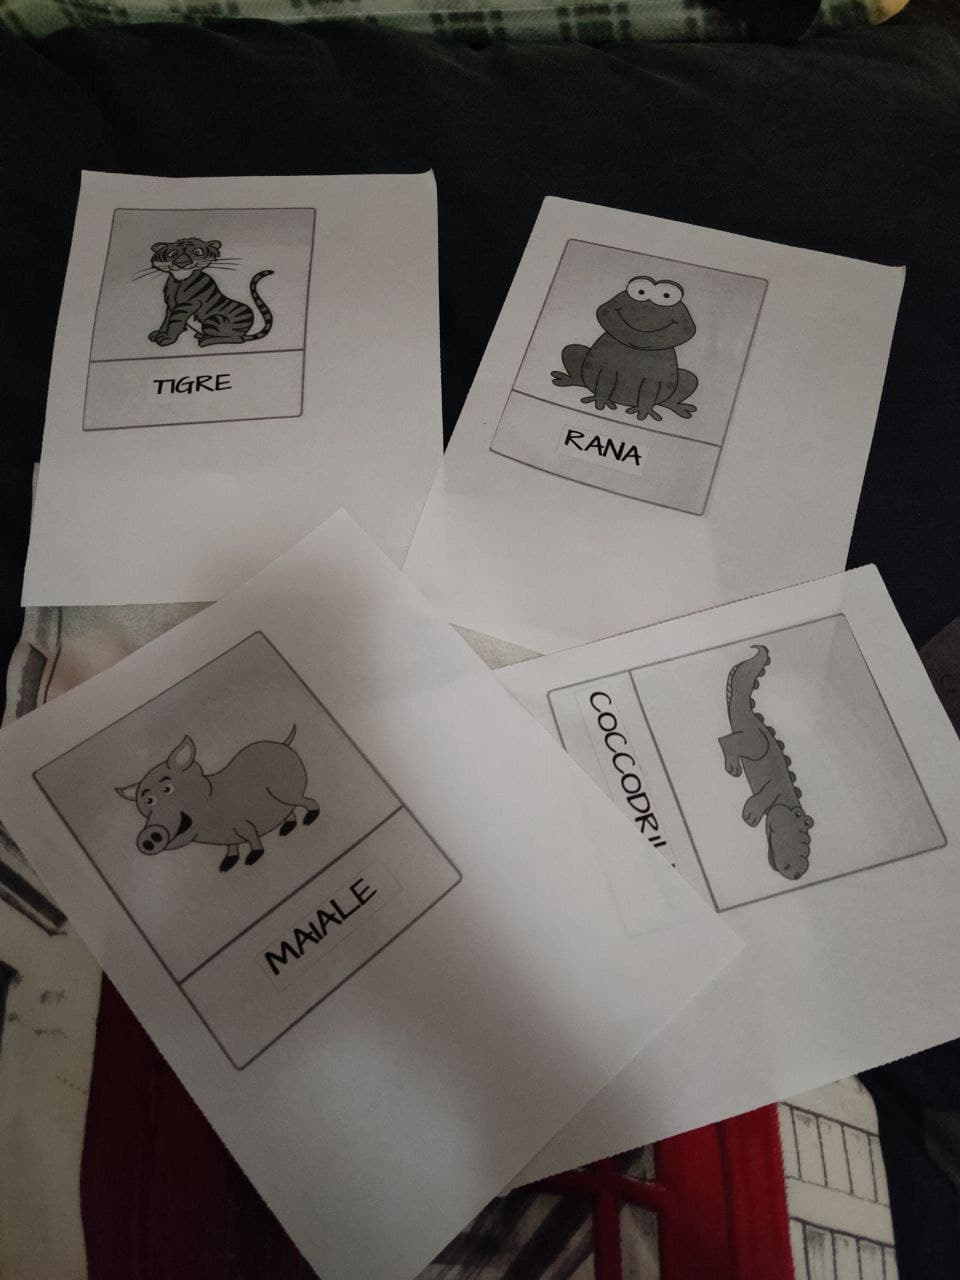coccodrillo: (560, 633, 853, 913)
maiale: (96, 704, 425, 1004)
rana: (552, 251, 732, 492)
tigre: (103, 219, 307, 425)
